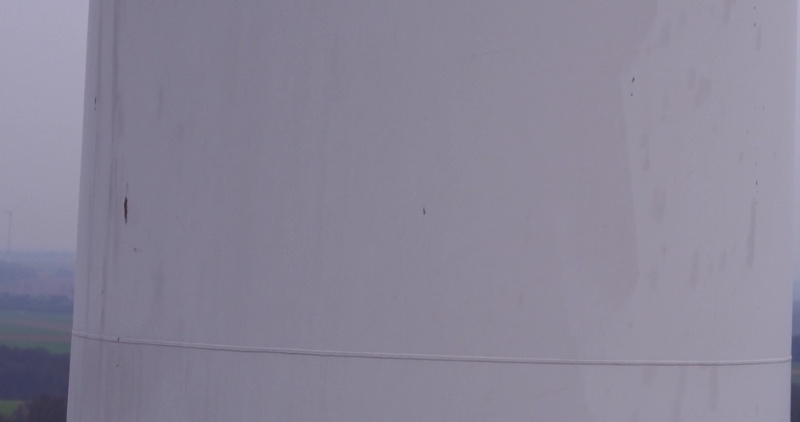weldseam: (67, 324, 800, 370)
